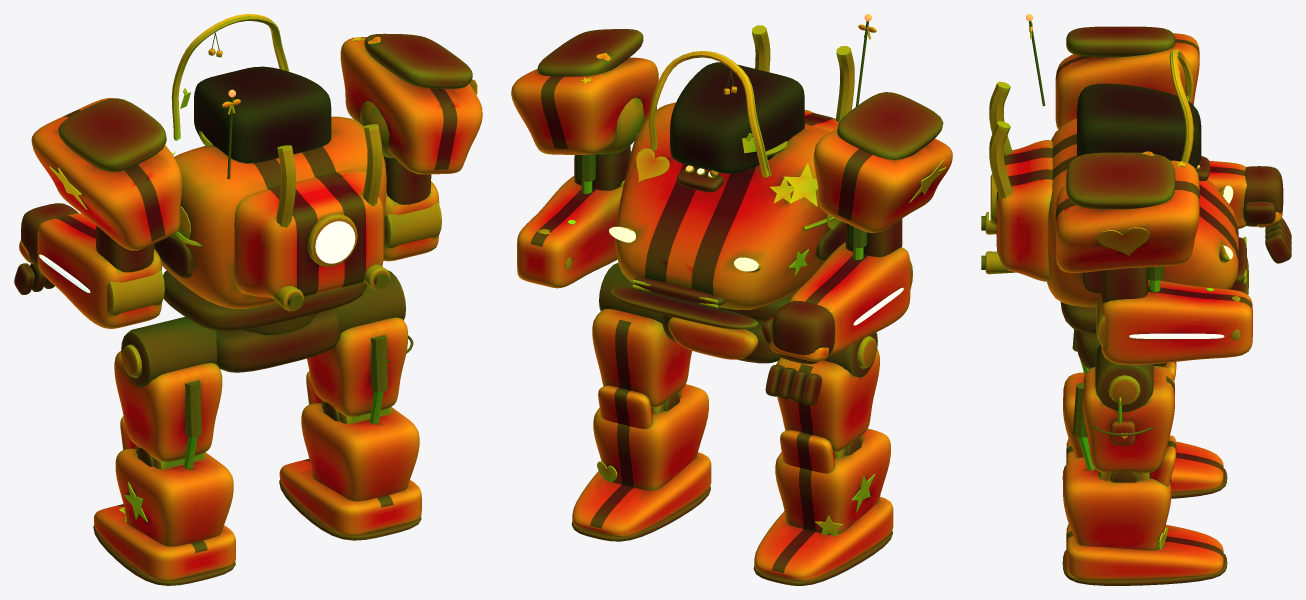
File: titan_ogre.glb
3 renders of one model, left to right at view 1: azimuth 30°, elevation 25°; view 2: azimuth 150°, elevation 25°; view 3: azimuth 270°, elevation 25°, orthographic. The views are drawn at different scales.
Parts seen in each view (by area): view 1: ArmLMesh, LegLMesh, LegRMesh, ArmRMesh, Torso, Engine, Canopy, Pelvis, Cockpit, Core; view 2: Torso, ArmLMesh, LegRMesh, ArmRMesh, LegLMesh, Canopy, Cockpit, Pelvis, Engine, Eye; view 3: ArmRMesh, LegRMesh, ArmLMesh, Torso, Engine, Canopy, LegLMesh, Cockpit, Pelvis.
Boxes of the visible parts, bbox=[...] form: ArmLMesh: bbox=[14, 98, 182, 328]; LegLMesh: bbox=[93, 317, 235, 585]; LegRMesh: bbox=[279, 270, 421, 540]; ArmRMesh: bbox=[340, 33, 482, 261]; Torso: bbox=[154, 116, 387, 331]; Engine: bbox=[222, 89, 390, 311]; Canopy: bbox=[194, 66, 331, 163]; Pelvis: bbox=[215, 308, 341, 372]; Cockpit: bbox=[171, 14, 289, 140]; Core: bbox=[315, 221, 355, 263]; Torso: bbox=[609, 102, 845, 329]; ArmLMesh: bbox=[762, 92, 952, 405]; LegRMesh: bbox=[571, 263, 711, 541]; ArmRMesh: bbox=[511, 29, 658, 288]; LegLMesh: bbox=[753, 332, 893, 585]; Canopy: bbox=[670, 62, 804, 173]; Cockpit: bbox=[648, 51, 771, 192]; Pelvis: bbox=[662, 314, 780, 363]; Engine: bbox=[752, 14, 876, 131]; Eye: bbox=[609, 227, 758, 271]; ArmRMesh: bbox=[1055, 151, 1252, 364]; LegRMesh: bbox=[1062, 344, 1227, 585]; ArmLMesh: bbox=[1055, 26, 1291, 263]; Torso: bbox=[1047, 118, 1248, 334]; Engine: bbox=[981, 14, 1052, 281]; Canopy: bbox=[1077, 83, 1201, 168]; LegLMesh: bbox=[1062, 329, 1227, 498]; Cockpit: bbox=[1169, 49, 1209, 180]; Pelvis: bbox=[1076, 330, 1166, 368].
Bounding box in the file's own units: 6.13 × 7.14 × 4.25.
